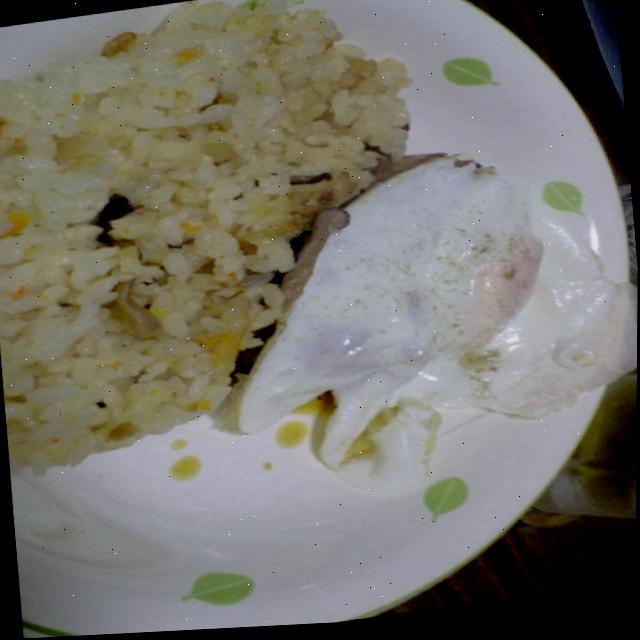米饭主食: (0, 290, 348, 535)
鸡蛋料理: (136, 364, 638, 561)
